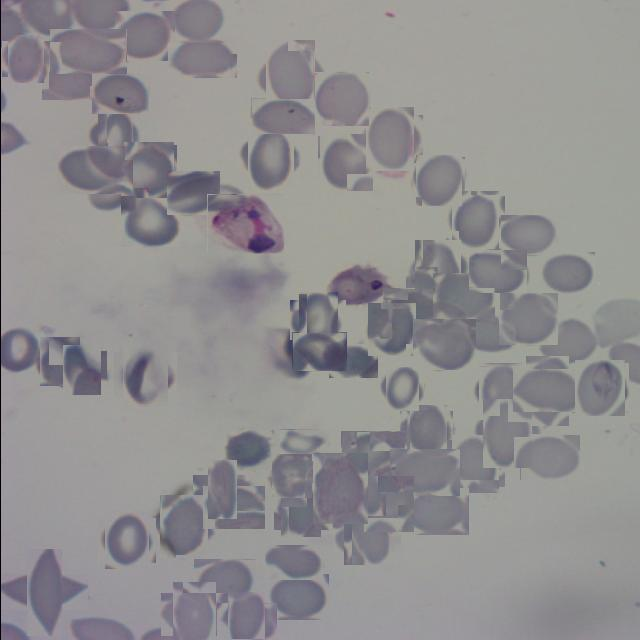leukocyte: (308, 457, 372, 520), (12, 562, 74, 624), (48, 28, 126, 74), (260, 45, 320, 104), (478, 404, 536, 463), (361, 110, 418, 168), (389, 449, 459, 496), (56, 146, 124, 194), (338, 502, 394, 560), (412, 319, 475, 370), (242, 130, 298, 186), (409, 244, 465, 300), (155, 498, 211, 554), (340, 431, 404, 480), (518, 363, 574, 419), (498, 292, 557, 345), (120, 195, 180, 247), (402, 488, 468, 535), (432, 273, 494, 322), (317, 136, 373, 190), (114, 11, 174, 61), (536, 317, 598, 365), (165, 587, 221, 640), (166, 36, 236, 78), (118, 348, 172, 402), (314, 72, 368, 126), (572, 361, 626, 415), (361, 478, 415, 531), (266, 574, 328, 620), (193, 559, 255, 605), (448, 193, 501, 246), (448, 437, 501, 490), (122, 144, 174, 198), (201, 485, 264, 529), (520, 434, 580, 480), (100, 514, 152, 566), (467, 249, 526, 293), (366, 304, 416, 355), (474, 366, 524, 416), (167, 0, 225, 43), (538, 252, 594, 294), (413, 156, 462, 204), (166, 171, 219, 215), (293, 296, 341, 344), (250, 98, 314, 134), (86, 160, 132, 210), (458, 310, 515, 350), (91, 74, 148, 114), (382, 288, 436, 330), (277, 486, 324, 534), (402, 408, 449, 455), (40, 62, 98, 100), (500, 215, 555, 255), (291, 332, 346, 371), (221, 597, 270, 640), (221, 430, 273, 470), (36, 339, 82, 384), (264, 545, 322, 580), (92, 115, 136, 159), (59, 348, 103, 392), (200, 468, 244, 512), (4, 38, 47, 80), (271, 453, 311, 498), (328, 344, 377, 378), (382, 369, 421, 408), (278, 429, 328, 454)
schizont: (206, 194, 283, 253)
